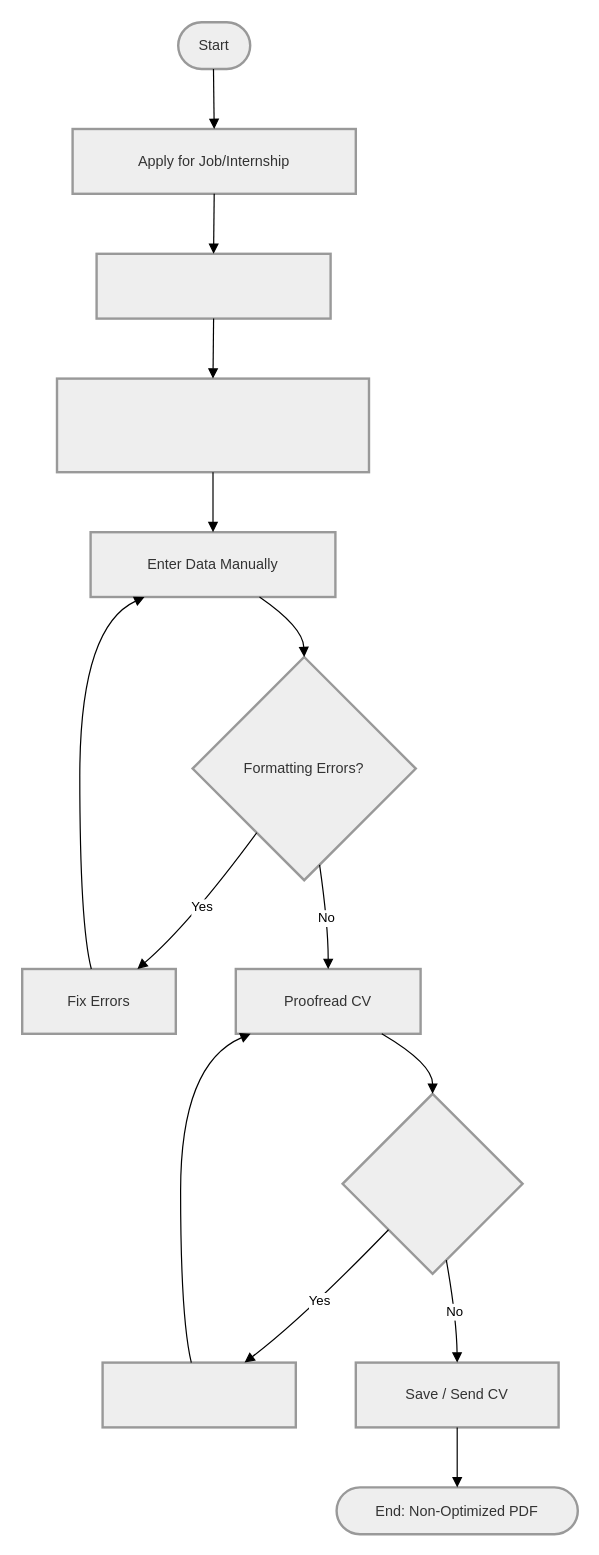
This 599x1555 diagram has some shape labels left out. Here are the shapes that lost their labels. From the top down, the centre of each, then its label:
point (213, 285): Gather Credentials
point (212, 425): Select Generic Non-ATS Template
point (432, 1183): Errors Found?
point (198, 1394): Correct Errors
